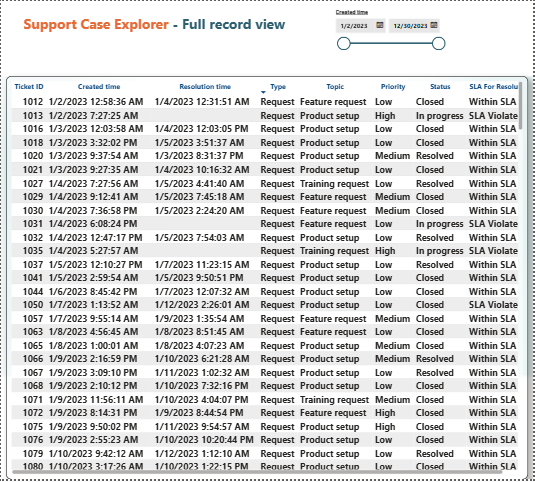

Layout of this report page (visuals, bound fields, positions):
{"tool":"powerbi","page":{"name":"Support Case Explorer","canvas":[1024,920],"ordinal":1},"visuals":[{"type":"tableEx","fields":{"Values":["Technical Support Dataset.Ticket ID","Technical Support Dataset.Created time","Technical Support Dataset.Resolution time","Technical Support Dataset.Type","Technical Support Dataset.Topic","Technical Support Dataset.Priority","Technical Support Dataset.Status","Technical Support Dataset.SLA For Resolution"]},"box":[10,144,1004,776],"z":0},{"type":"slicer","fields":{"Values":["Technical Support Dataset.Created time"]},"box":[630,10,232,100],"z":1000},{"type":"textbox","box":[38.2,18.4,592.1,57.9],"z":2000}]}

Visuals, with their boxes in screenshot pixels (x1, y1, x2, y2), scaled from the page's 1024x920 canvas onto the 535x482 screenshot:
tableEx - Technical Support Dataset.Ticket ID x Technical Support Dataset.Created time: [left=5, top=75, right=530, bottom=481]
slicer - Technical Support Dataset.Created time: [left=329, top=5, right=450, bottom=58]
textbox: [left=20, top=10, right=329, bottom=40]
